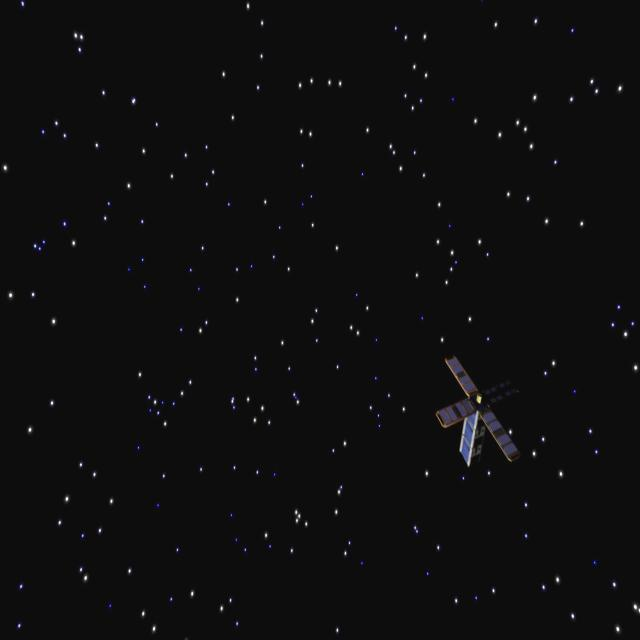medium_debris: (427, 348, 521, 478)
